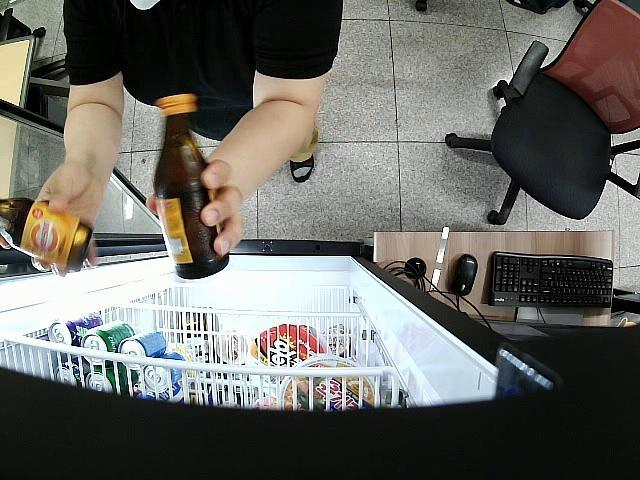17_vita500: (156, 92, 230, 282), (0, 198, 94, 272)
